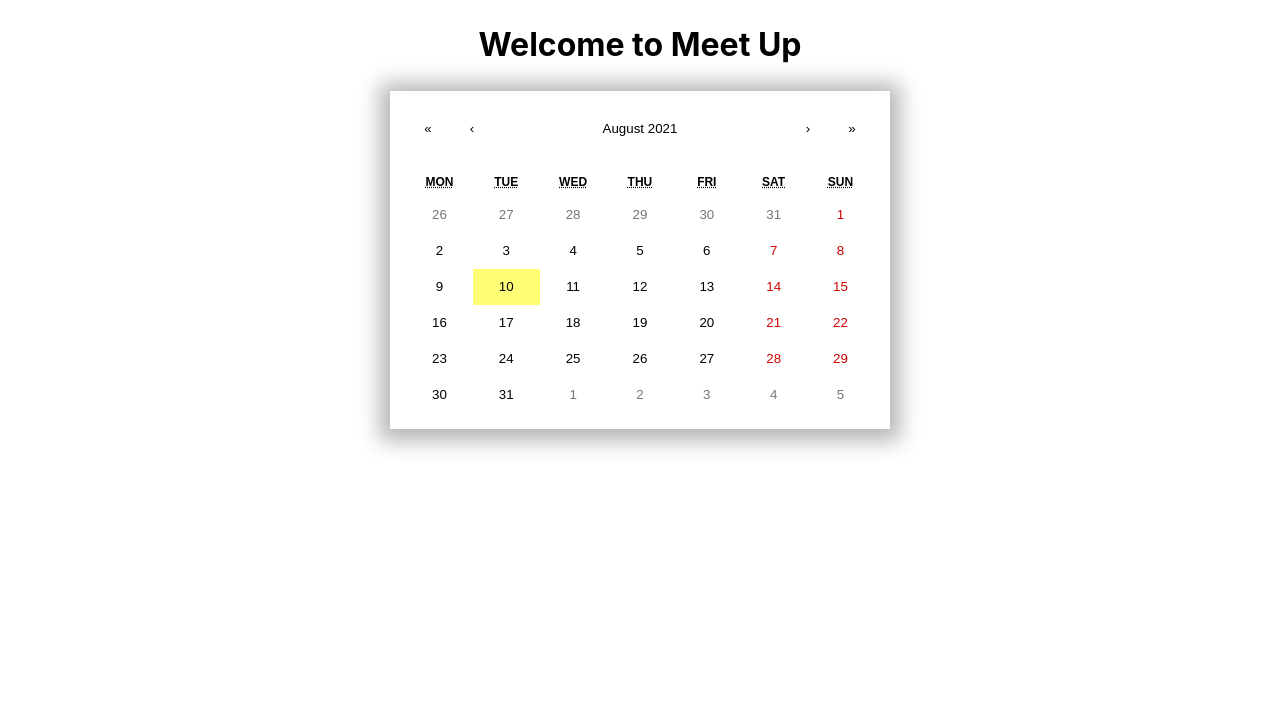
Test case: Home tests › should hide time wrapper when user updates view
This screenshot has width=1280, height=720.
Note: should display time wrapper and set selected date
Step 1. Click the 1st button with class "react-calendar__tile" → (439, 215), box [406,197,473,233]
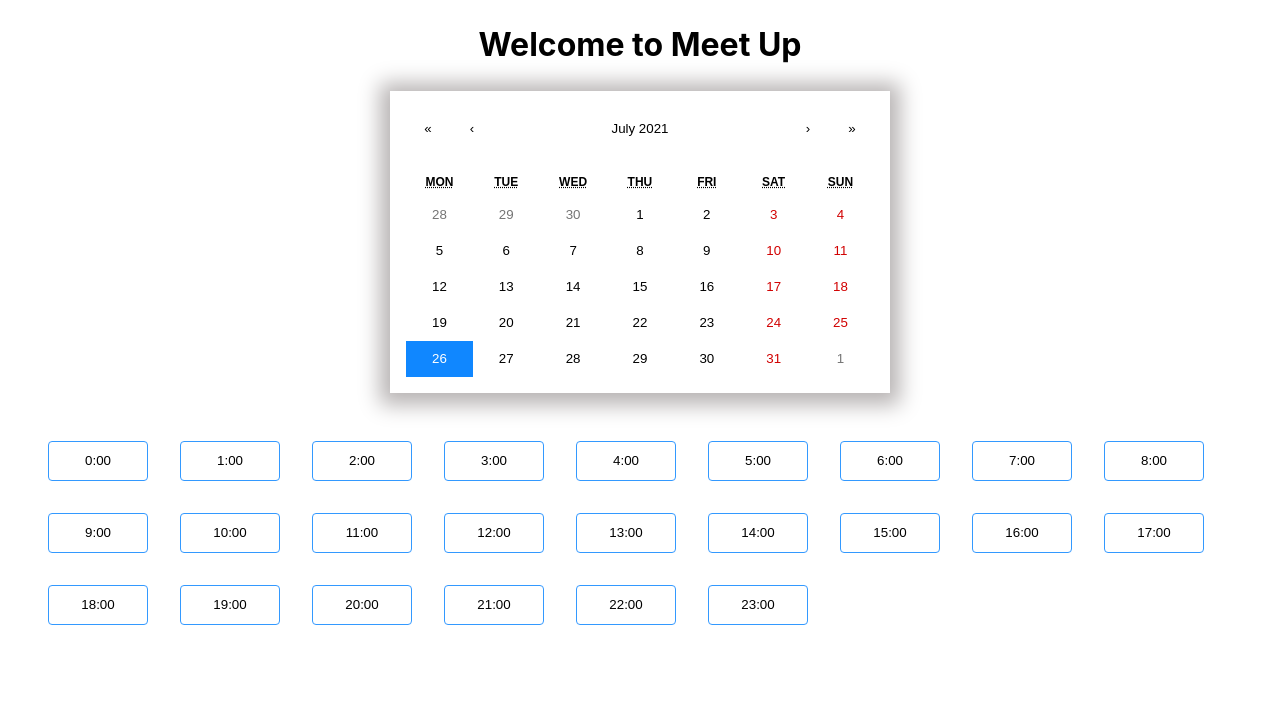
Now the element with test id "time-button-wrapper" is shown, box [0,393,1279,673]
Step 2. Click the button with class "react-calendar__navigation__next-button" → (808, 129), box [786,107,830,151]
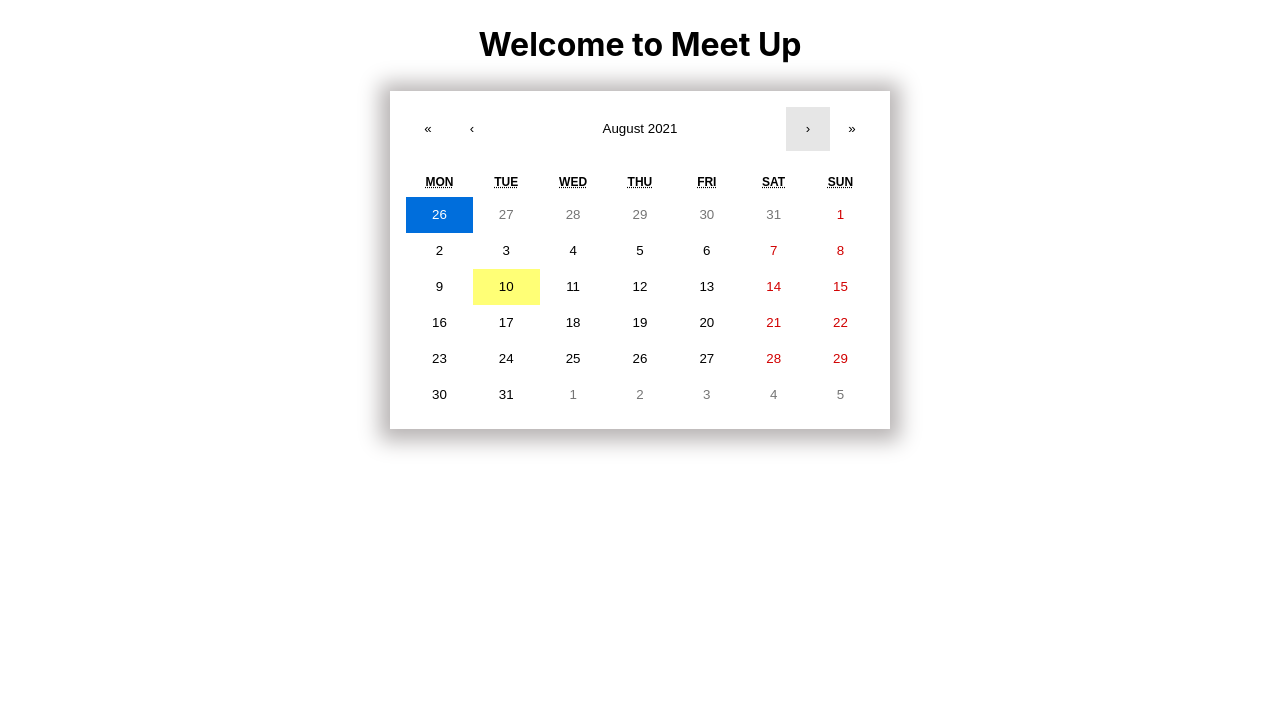
Now the element with test id "time-button-wrapper" is gone
